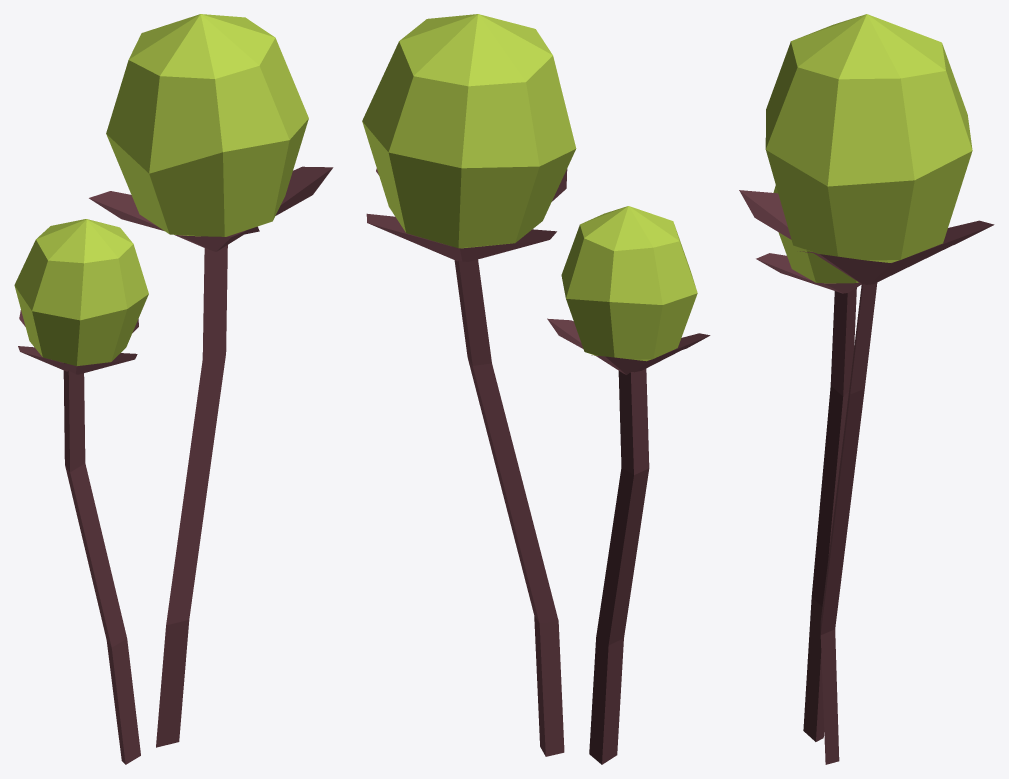
Rendered from scifi-plant-orb-big.fbx.
3 renders of one model, left to right at view 1: azimuth 30°, elevation 25°; view 2: azimuth 150°, elevation 25°; view 3: azimuth 270°, elevation 25°, orthographic. The views are drawn at different scales.
Parts seen in each view (by area): view 1: scifi-plant-orb-big; view 2: scifi-plant-orb-big; view 3: scifi-plant-orb-big.
Part boxes in pixels (left/top/right/bottom): scifi-plant-orb-big: left=14, top=14, right=333, bottom=764; scifi-plant-orb-big: left=362, top=14, right=710, bottom=764; scifi-plant-orb-big: left=739, top=14, right=994, bottom=764.
Size of the model in its own units: 1.02 by 2.21 by 0.6589.
